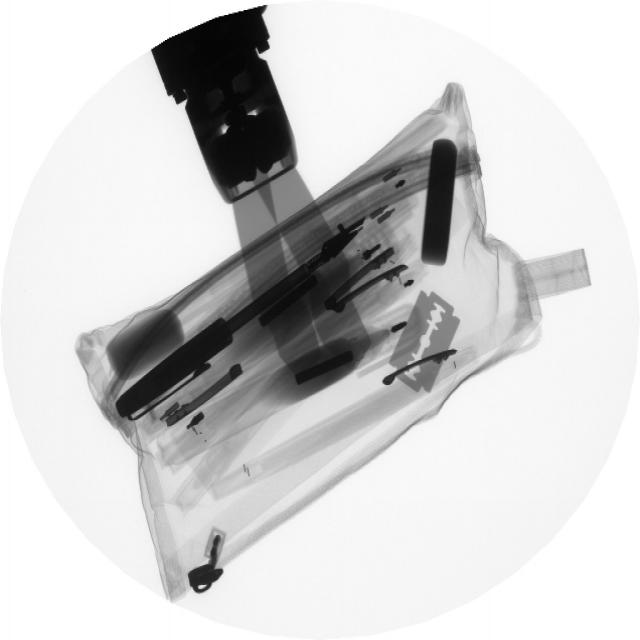BLADE: (386, 283, 465, 391)
